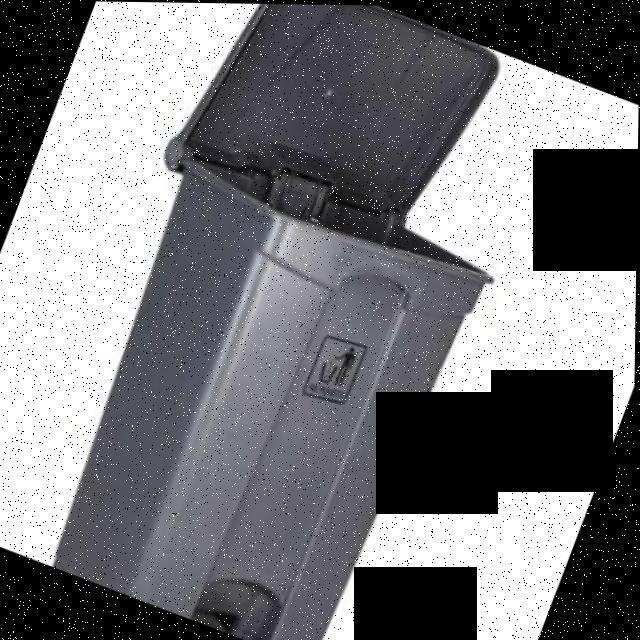bin: (0, 101, 562, 640)
